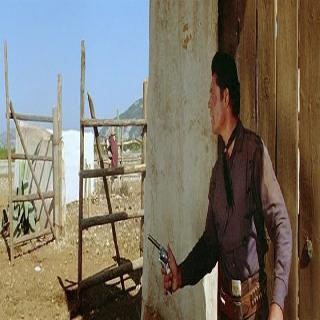gun: (145, 221, 177, 306)
